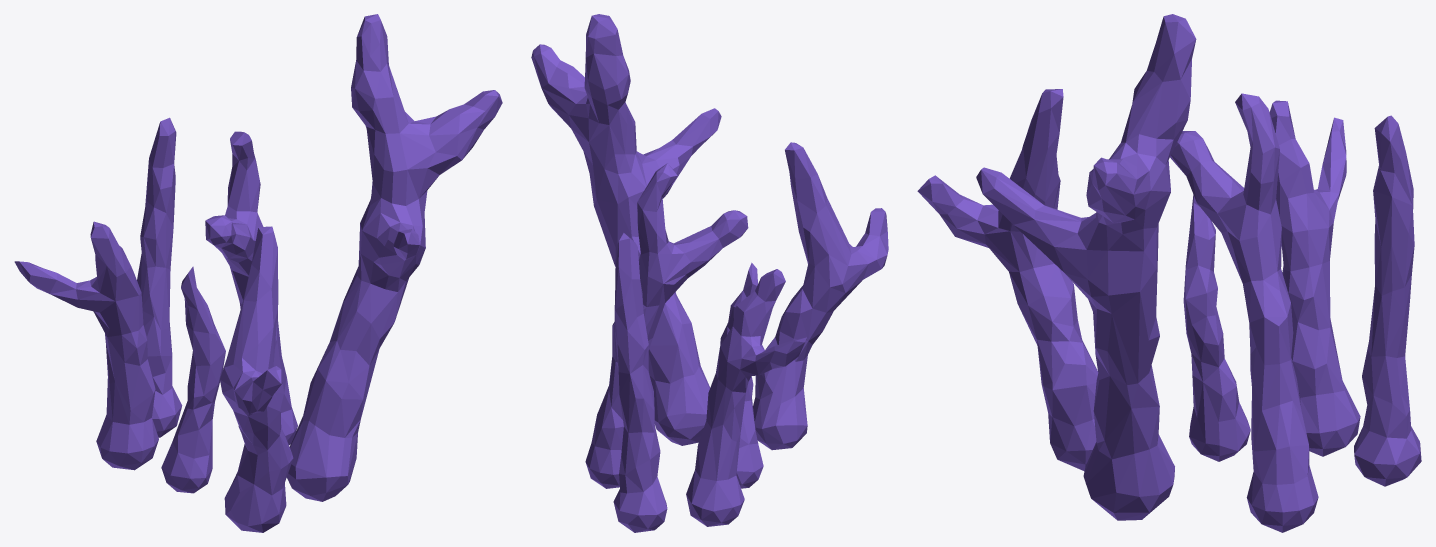
Rendered from coral-4.gltf.
3 renders of one model, left to right at view 1: azimuth 30°, elevation 25°; view 2: azimuth 150°, elevation 25°; view 3: azimuth 270°, elevation 25°, orthographic. The views are drawn at different scales.
Parts seen in each view (by area): view 1: Coral.003; view 2: Coral.003; view 3: Coral.003.
Boxes of the visible parts, x1,y1,x2,y2 form: Coral.003: (14,14,502,532); Coral.003: (531,14,888,532); Coral.003: (917,14,1421,532).
Bounding box in the file's own units: 0.3565 × 0.3969 × 0.3318.
